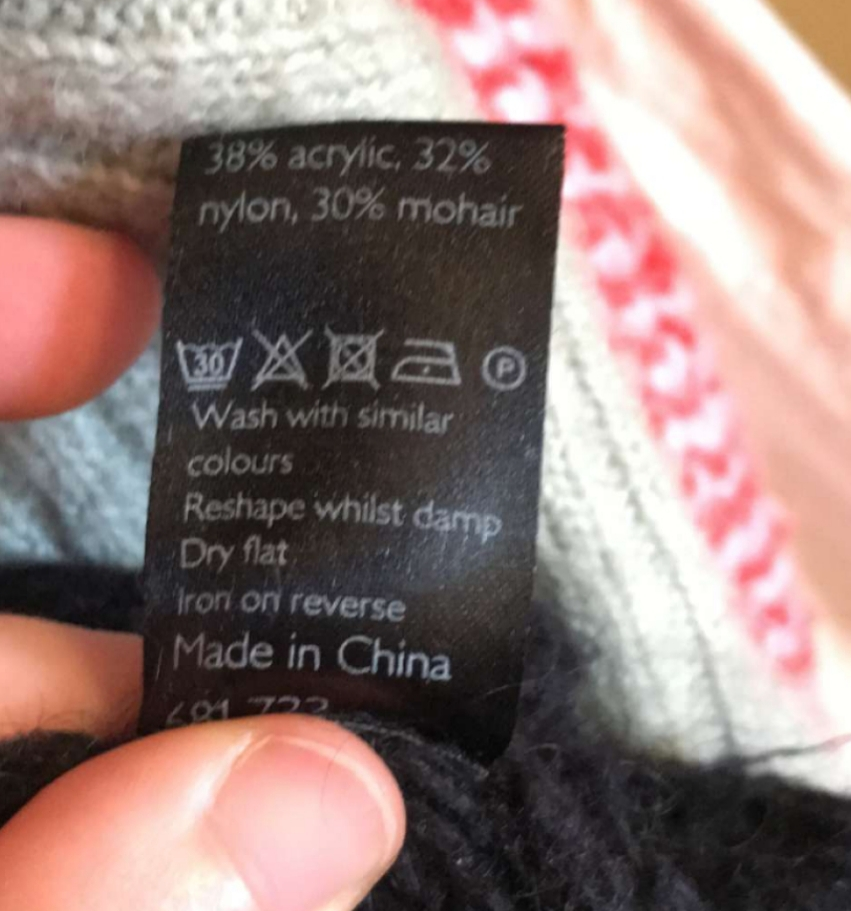do not bleach: (248, 316, 327, 404)
do not tumble dry: (323, 318, 391, 403)
dry clean: (476, 336, 532, 407)
iron low temp: (389, 319, 471, 397)
wash at or below 30: (170, 330, 248, 401)
